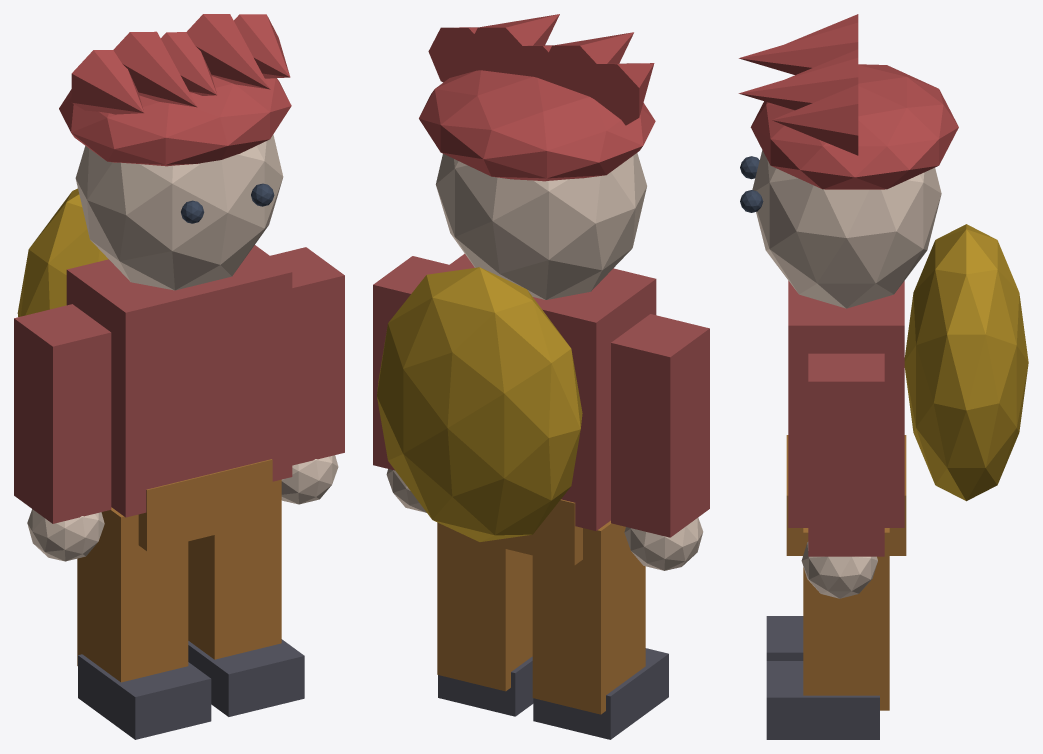
File: gaara.glb
The picture shows the model from 3 angles, left to right: view 1: azimuth 30°, elevation 25°; view 2: azimuth 150°, elevation 25°; view 3: azimuth 270°, elevation 25°; orthographic projection. The views are drawn at different scales.
Parts seen in each view (by area): view 1: part_000, part_010, part_002, part_004, part_013, part_008, part_006, part_001, part_005, part_009, part_019, part_014 (+6 smaller); view 2: part_019, part_010, part_002, part_013, part_004, part_008, part_000, part_005, part_006, part_017, part_015, part_001 (+6 smaller); view 3: part_019, part_010, part_006, part_013, part_000, part_008, part_009, part_018, part_017, part_015, part_007, part_005 (+1 smaller).
Boxes of the visible parts, bbox=[...] form: part_000: bbox=[66, 245, 292, 517]; part_010: bbox=[75, 134, 283, 290]; part_002: bbox=[14, 304, 111, 523]; part_004: bbox=[77, 507, 188, 682]; part_013: bbox=[59, 76, 291, 166]; part_008: bbox=[188, 479, 281, 659]; part_006: bbox=[270, 247, 344, 465]; part_001: bbox=[138, 459, 272, 551]; part_005: bbox=[78, 654, 211, 739]; part_009: bbox=[188, 639, 304, 716]; part_019: bbox=[17, 188, 108, 316]; part_014: bbox=[71, 50, 144, 114]; part_019: bbox=[377, 267, 582, 541]; part_010: bbox=[435, 153, 646, 299]; part_002: bbox=[611, 314, 709, 537]; part_013: bbox=[419, 70, 655, 181]; part_004: bbox=[532, 520, 645, 714]; part_008: bbox=[437, 522, 532, 691]; part_000: bbox=[439, 253, 656, 530]; part_005: bbox=[533, 648, 668, 739]; part_006: bbox=[373, 256, 448, 470]; part_017: bbox=[466, 14, 559, 75]; part_015: bbox=[540, 32, 633, 100]; part_001: bbox=[446, 499, 582, 565]; part_019: bbox=[904, 224, 1028, 501]; part_010: bbox=[752, 150, 941, 308]; part_006: bbox=[808, 353, 884, 556]; part_013: bbox=[750, 64, 958, 189]; part_000: bbox=[788, 281, 904, 527]; part_008: bbox=[803, 528, 889, 710]; part_009: bbox=[766, 661, 879, 739]; part_018: bbox=[772, 84, 858, 155]; part_017: bbox=[738, 58, 858, 110]; part_015: bbox=[739, 22, 858, 74]; part_007: bbox=[801, 542, 877, 598]; part_005: bbox=[766, 616, 803, 660].
Bounding box in the file's own units: 1.03 × 2.17 × 0.872.
